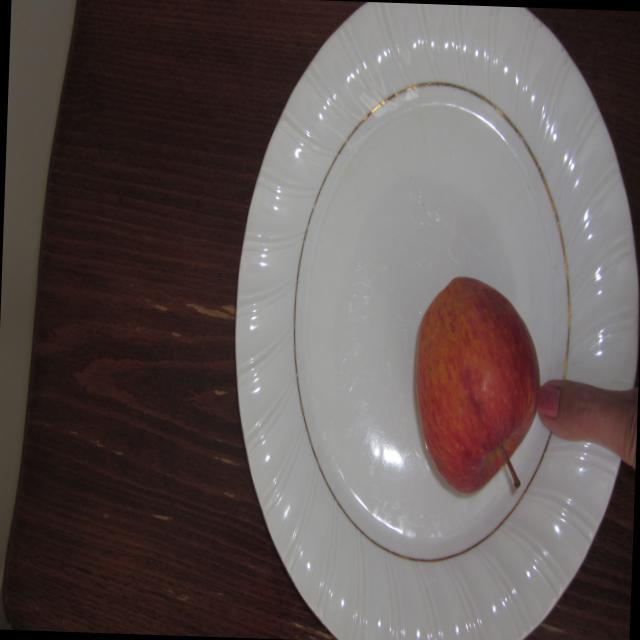Apple: (396, 270, 548, 510)
Finger: (534, 363, 600, 452)
